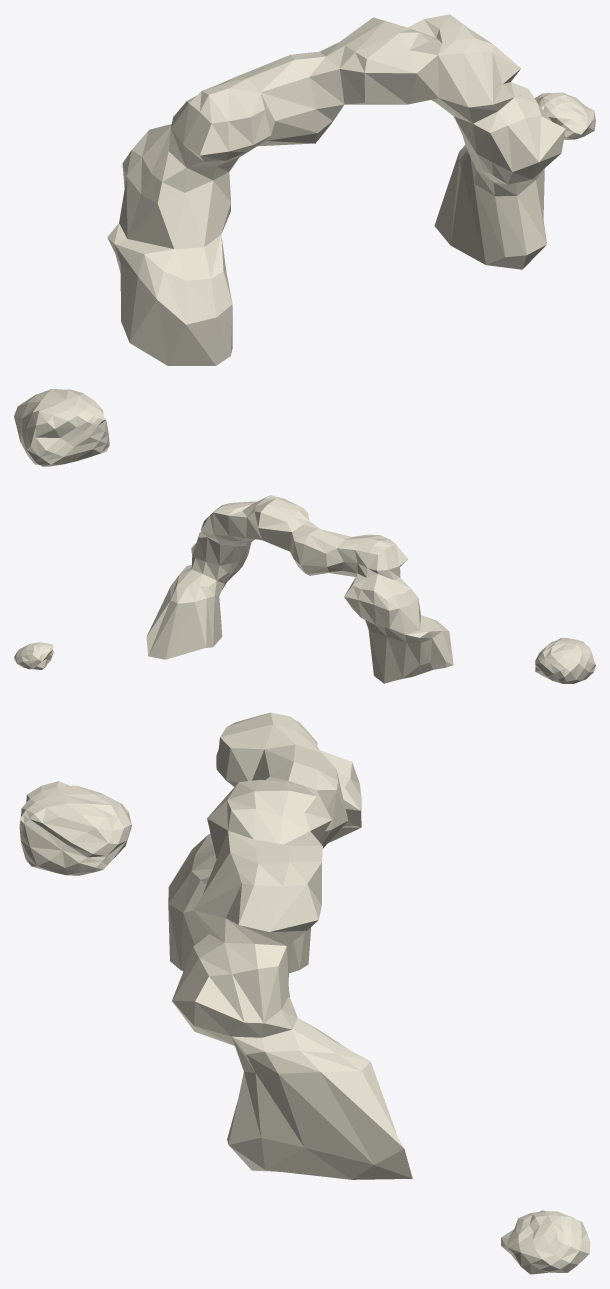
File: desert-5-21.glb
The picture shows the model from 3 angles, top to bottom: view 1: azimuth 30°, elevation 25°; view 2: azimuth 150°, elevation 25°; view 3: azimuth 270°, elevation 25°; orthographic projection. The views are drawn at different scales.
Visible parts, largest first — view 1: desert-5-21; view 2: desert-5-21; view 3: desert-5-21.
Part boxes in pixels (<box>): desert-5-21: <box>14,14,595,466</box>; desert-5-21: <box>14,495,595,683</box>; desert-5-21: <box>19,712,590,1274</box>.
Size of the model in its own units: 122 by 40 by 66.59.
